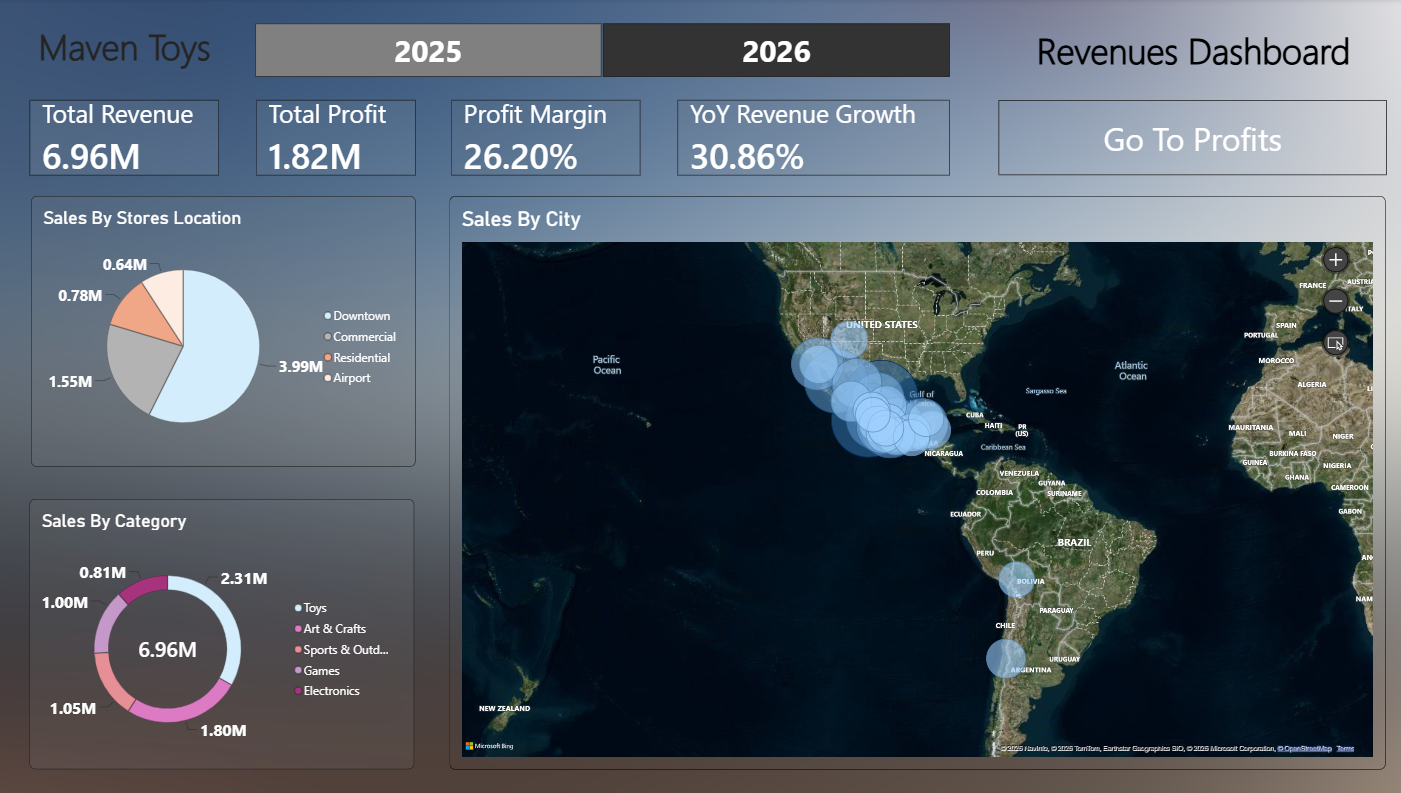

This screenshot's page, from the dashboard's own definition file:
{"tool":"powerbi","page":{"name":"Revenues","canvas":[1920,1080],"ordinal":0},"visuals":[{"type":"image","box":[0,0,1920,1080],"z":0},{"type":"cardVisual","fields":{"Data":["measures_.Total Sales Revenue"]},"box":[46,138,256,102],"z":1000},{"type":"cardVisual","fields":{"Data":["measures_.Total Profit"]},"box":[352,138,216,102],"z":2000},{"type":"cardVisual","fields":{"Data":["measures_.Profit Margin %"]},"box":[616,138,256,102],"z":3000},{"type":"cardVisual","fields":{"Data":["measures_.YoY Revenue Growth %"]},"box":[922,138,368,102],"z":4000},{"type":"slicer","fields":{"Values":["Calendar.Year"]},"box":[331.1,31.5,978.9,75.8],"z":5000},{"type":"map","title":"Sales By City","fields":{"Category":["stores.Store_City"],"Size":["measures_.Total Sales Revenue"]},"box":[615,267.5,1265,775],"z":6000},{"type":"shape","box":[1358.9,32.2,523.3,74.4],"z":7000},{"type":"pieChart","title":"Sales By Stores Location","fields":{"Category":["stores.Store_Location"],"Y":["measures_.Total Sales Revenue"]},"box":[47.7,268,520.1,365.7],"z":8000},{"type":"donutChart","title":"Sales By Category","fields":{"Category":["products.Product_Category"],"Y":["measures_.Total Sales Revenue"]},"box":[47.5,677.5,520,365],"z":9000},{"type":"shape","box":[1356.7,138.3,525,101.7],"z":10000},{"type":"actionButton","box":[1356.7,138.3,525,101.7],"z":11000},{"type":"textbox","box":[48,32,254,74],"z":12000}]}

Visuals, with their boxes in screenshot pixels (x1, y1, x2, y2), scaled from the page's 1920x1080 canvas onto the 1401x793 screenshot:
image: region(0, 0, 1400, 792)
cardVisual - measures_.Total Sales Revenue: region(34, 101, 220, 176)
cardVisual - measures_.Total Profit: region(257, 101, 414, 176)
cardVisual - measures_.Profit Margin %: region(449, 101, 636, 176)
cardVisual - measures_.YoY Revenue Growth %: region(673, 101, 941, 176)
slicer - Calendar.Year: region(242, 23, 956, 79)
"Sales By City" map: region(449, 196, 1372, 765)
shape: region(992, 24, 1373, 78)
"Sales By Stores Location" pieChart: region(35, 197, 414, 465)
"Sales By Category" donutChart: region(35, 497, 414, 765)
shape: region(990, 102, 1373, 176)
actionButton: region(990, 102, 1373, 176)
textbox: region(35, 23, 220, 78)
